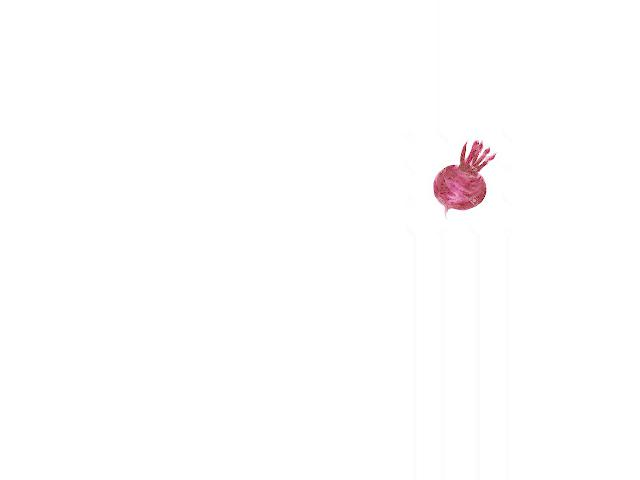beet: (432, 140, 495, 220)
